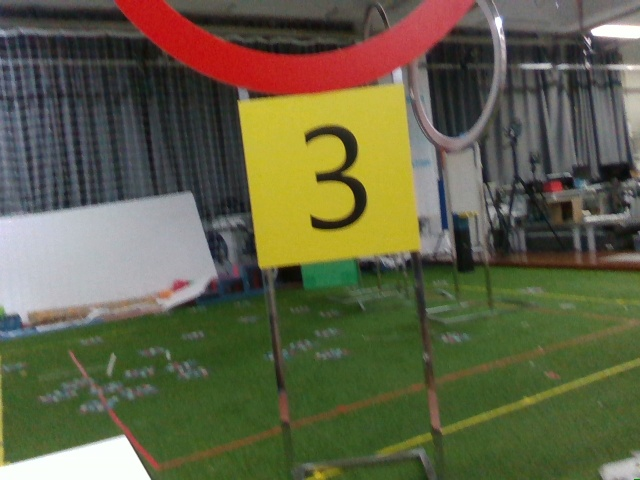target: (247, 95, 410, 248)
